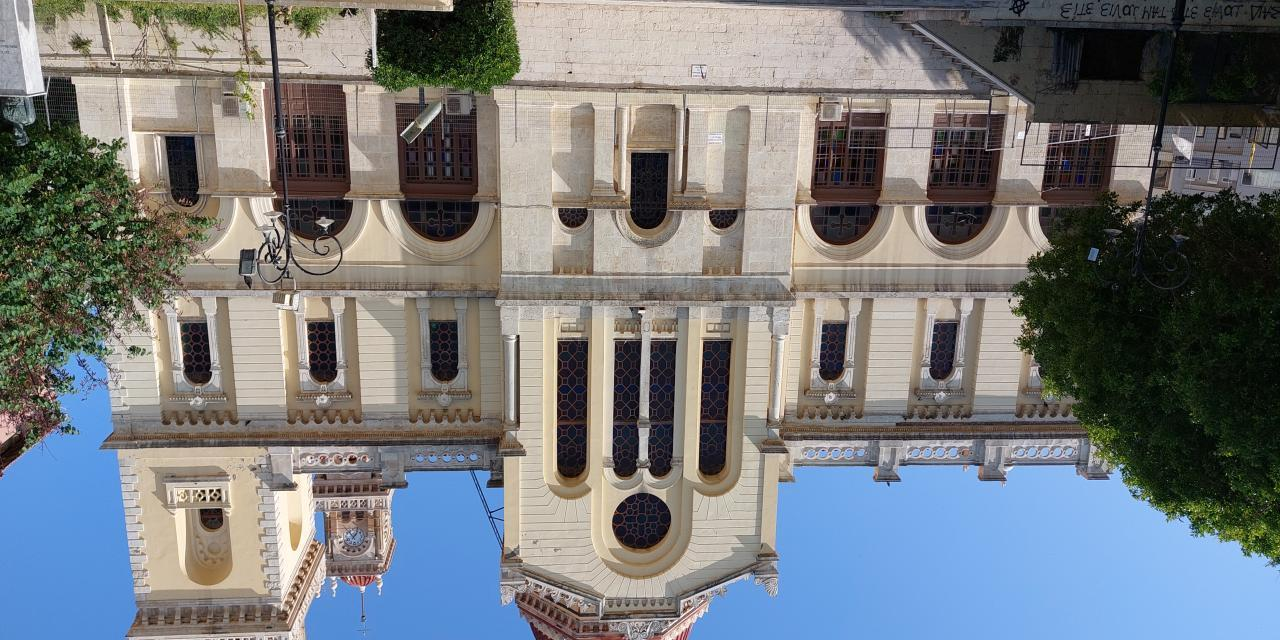Agios Minas: (76, 95, 1158, 640)
